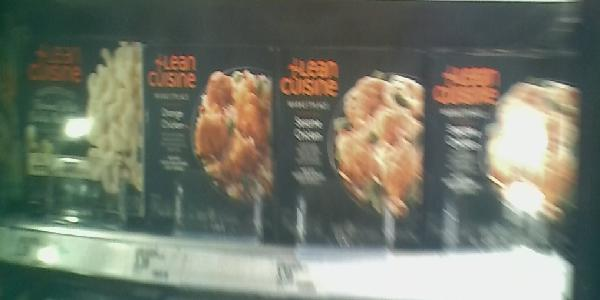pizza1: (433, 44, 584, 249), (281, 46, 427, 252), (14, 30, 147, 224), (149, 47, 278, 243)
